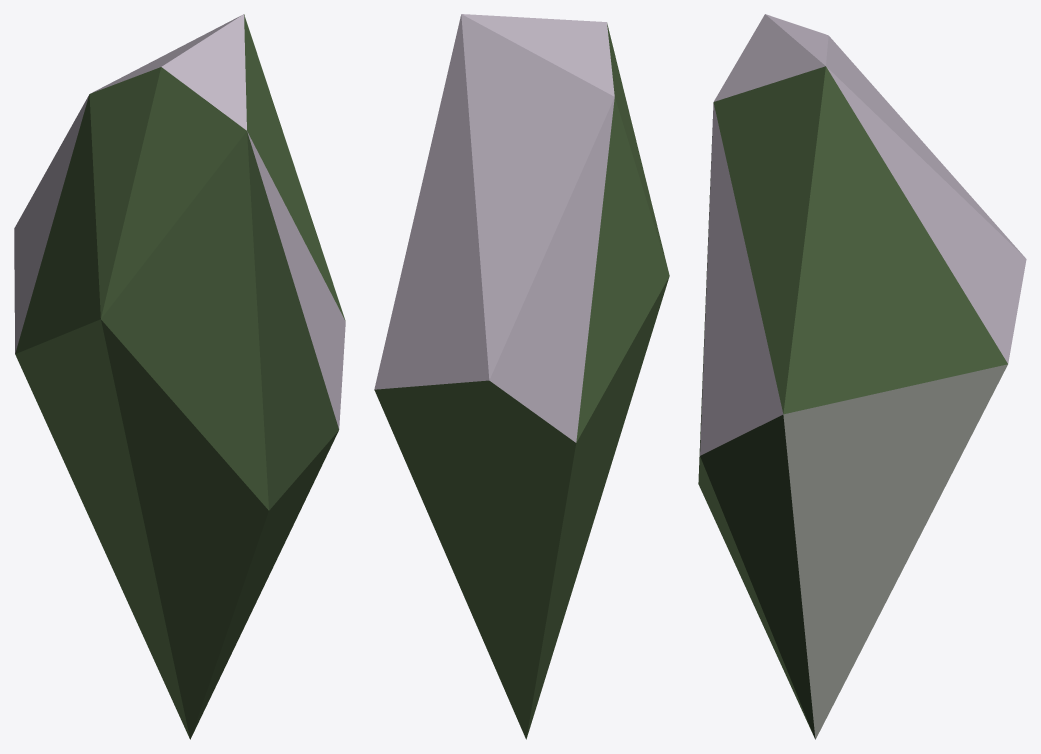
File: BirchTree_Snow_3.lod4.glb
3 views of the same model, side by side, from view 1: azimuth 30°, elevation 25°; view 2: azimuth 150°, elevation 25°; view 3: azimuth 270°, elevation 25° (orthographic).
Visible parts, largest first — view 1: BirchTree_Snow_3; view 2: BirchTree_Snow_3; view 3: BirchTree_Snow_3.
Boxes of the visible parts, bbox=[...] form: BirchTree_Snow_3: bbox=[14, 14, 345, 739]; BirchTree_Snow_3: bbox=[374, 14, 669, 739]; BirchTree_Snow_3: bbox=[698, 14, 1026, 739].
Bounding box in the file's own units: 1.57 × 4.18 × 1.77.
